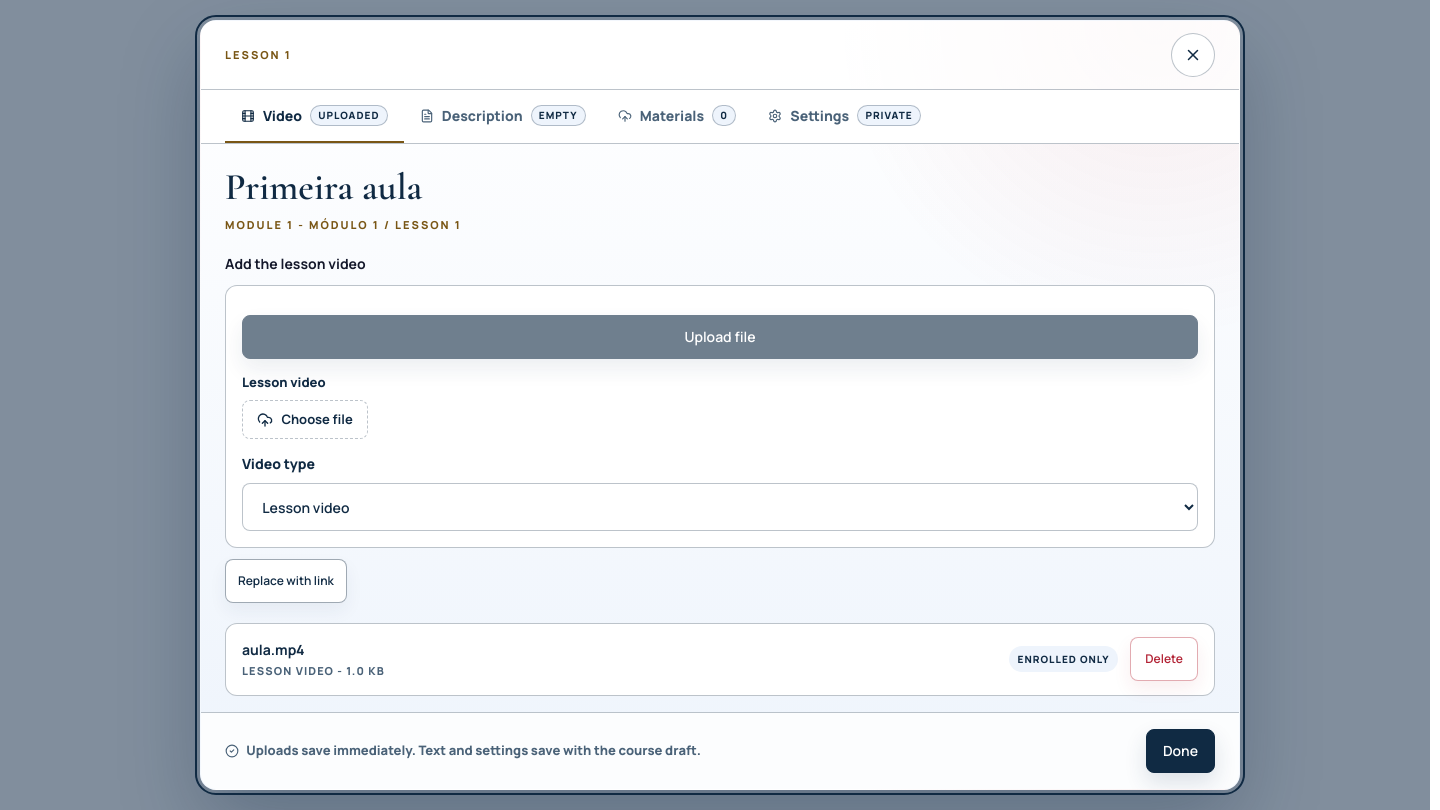
Test: LessonContentModal — um video por aula › com video enviado, o campo de link so aparece depois de Replace with link
This screenshot has width=1440, height=810.
Expected: the field labelled "YouTube or Vimeo URL" is not shown
Click the button "Replace with link".
click(286, 581)  # box [225,559,347,603]
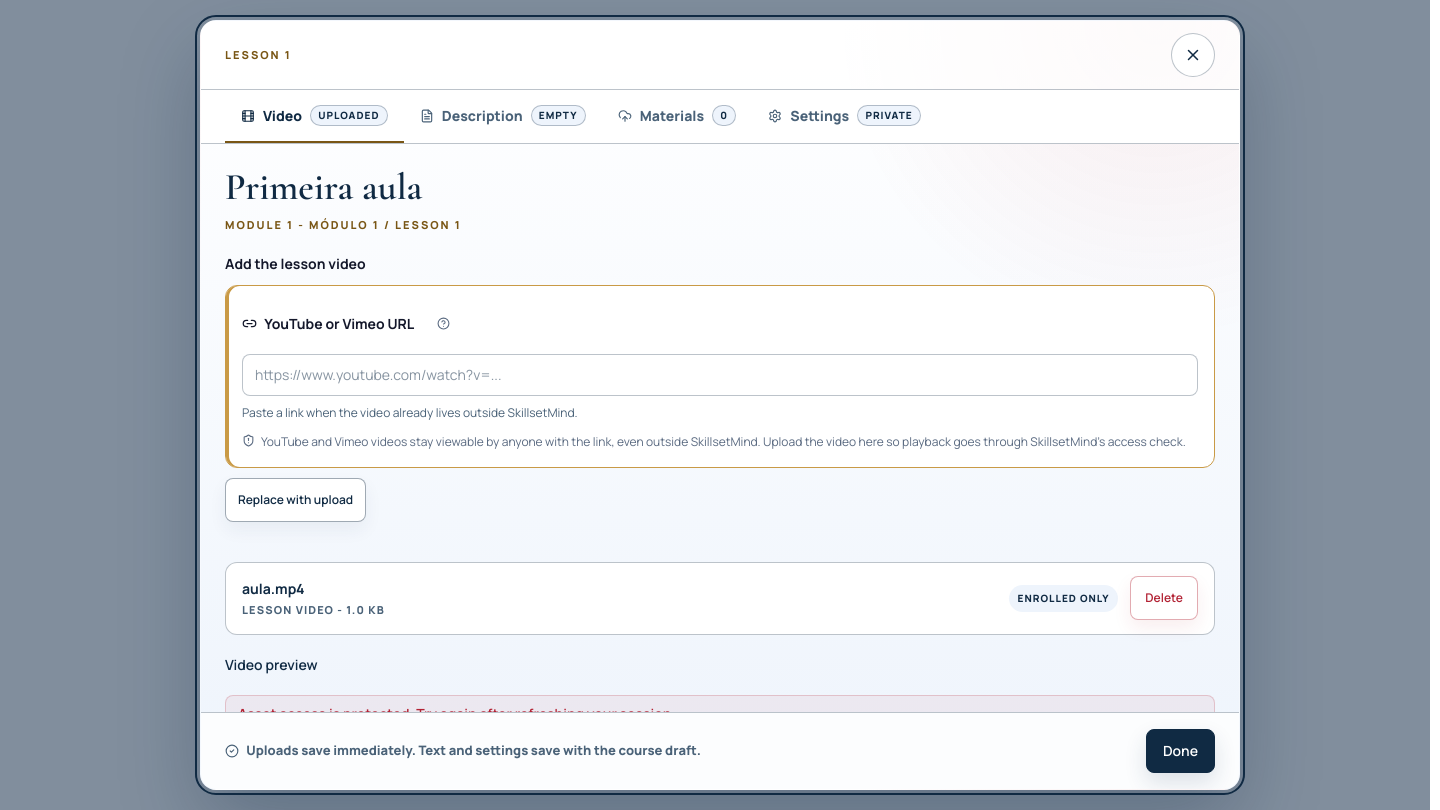
Expected: the field labelled "YouTube or Vimeo URL" is shown, [242,354,1198,396]
